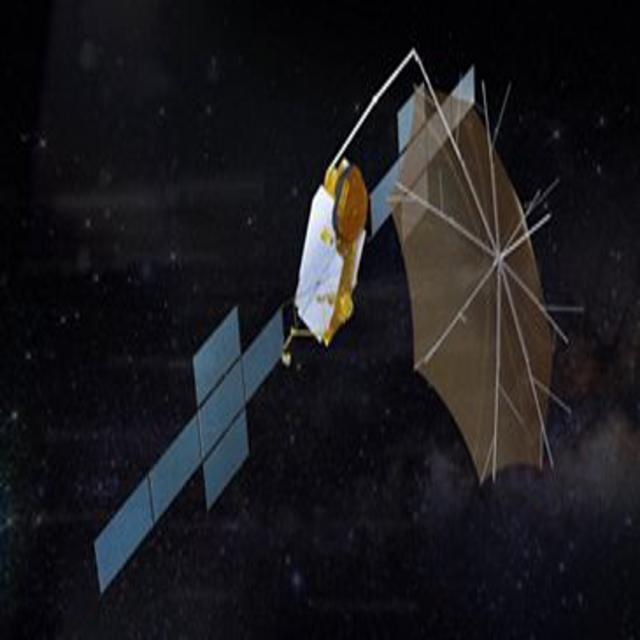satellite: (85, 51, 566, 602)
